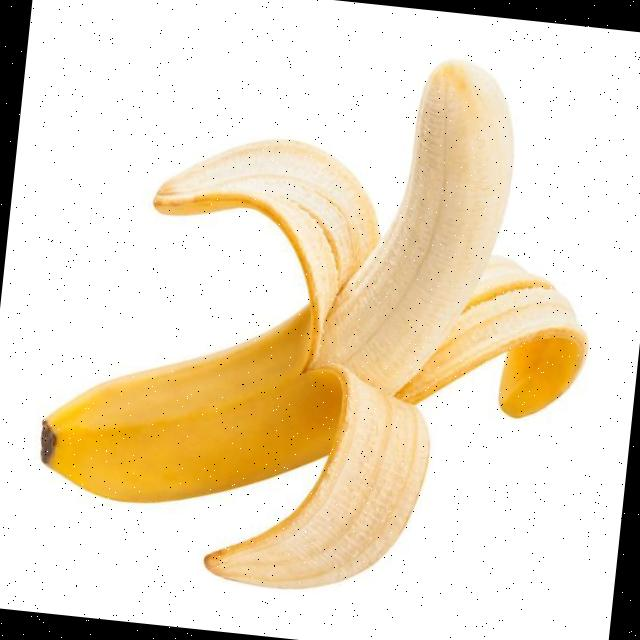banana-peel: (25, 18, 616, 618)
